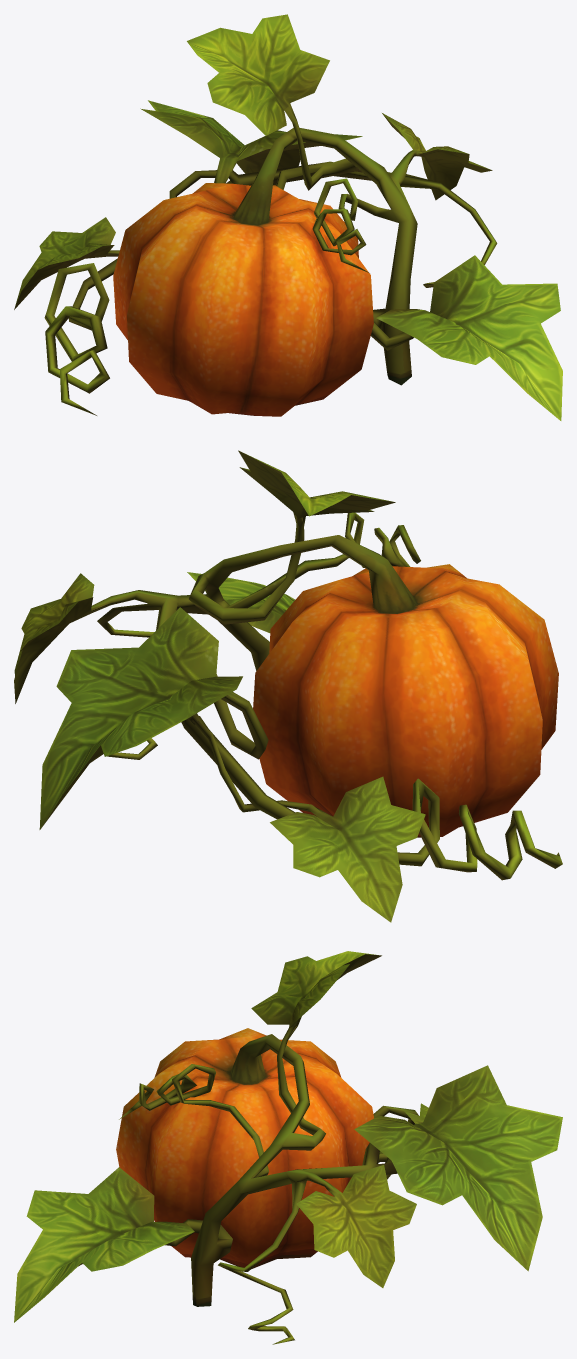
File: pumpkin_4.FBX
3 renders of one model, top to bottom at view 1: azimuth 30°, elevation 25°; view 2: azimuth 150°, elevation 25°; view 3: azimuth 270°, elevation 25°, orthographic. The views are drawn at different scales.
Visible parts, largest first — view 1: pumpkin_4; view 2: pumpkin_4; view 3: pumpkin_4.
Boxes of the visible parts, <box> form: pumpkin_4: <box>14,14,562,420</box>; pumpkin_4: <box>14,450,562,922</box>; pumpkin_4: <box>14,951,562,1344</box>.
Size of the model in its own units: 81.82 by 57.26 by 90.48.
1 material, 1 textured.
